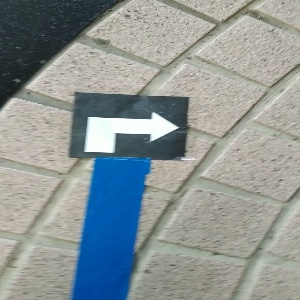right: (69, 91, 188, 159)
